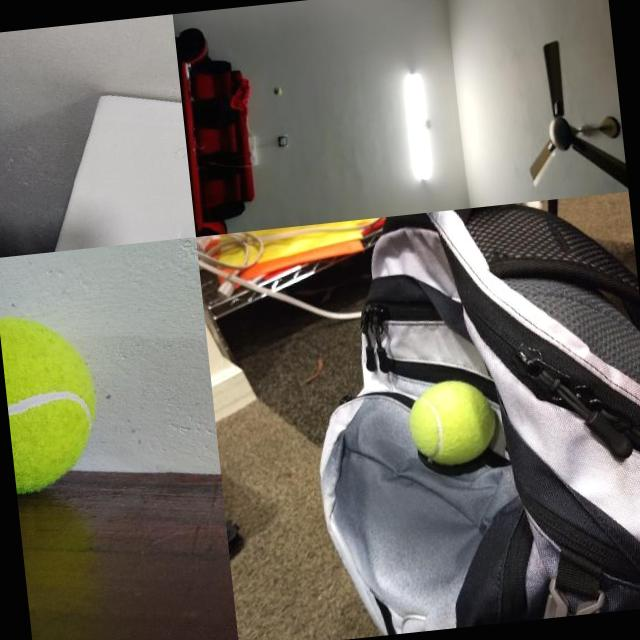Tennis Ball: (0, 307, 105, 494), (406, 375, 500, 469), (274, 86, 282, 95)
